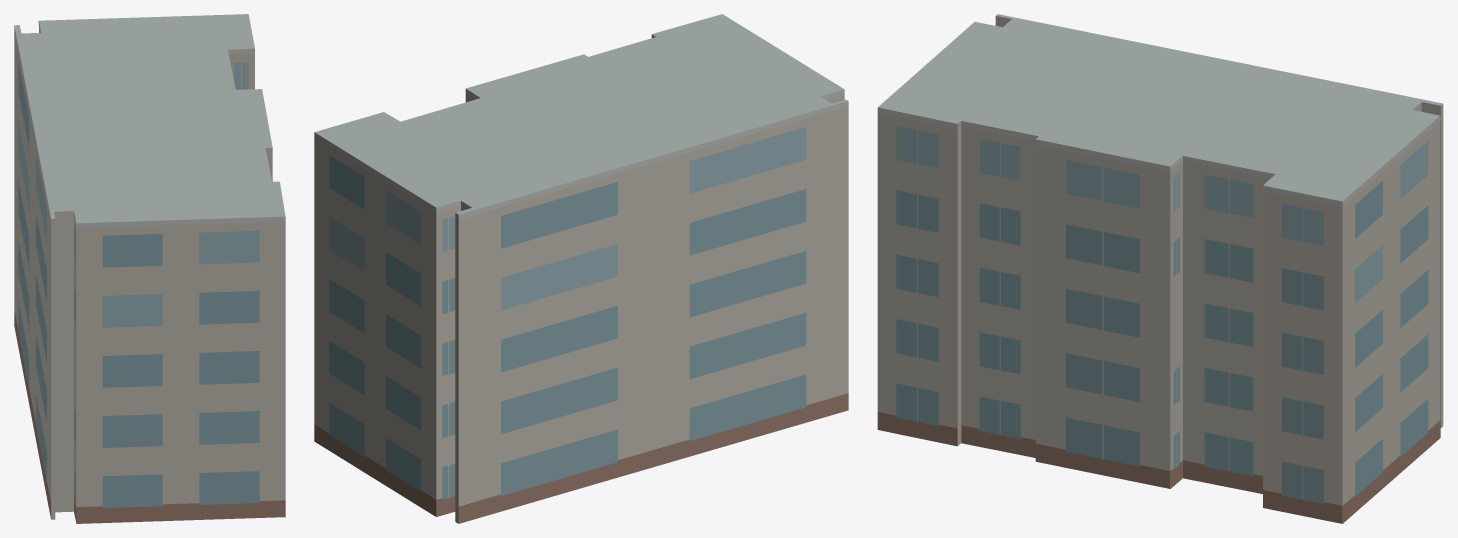
Rendered from survey-upis-33014915.glb.
3 renders of one model, left to right at view 1: azimuth 30°, elevation 25°; view 2: azimuth 150°, elevation 25°; view 3: azimuth 270°, elevation 25°, orthographic. The views are drawn at different scales.
Parts seen in each view (by area): view 1: survey-upis-33014915.tmp; view 2: survey-upis-33014915.tmp; view 3: survey-upis-33014915.tmp.
Part boxes in pixels (<box>): survey-upis-33014915.tmp: <box>14,14,285,523</box>; survey-upis-33014915.tmp: <box>314,14,848,523</box>; survey-upis-33014915.tmp: <box>877,14,1443,523</box>.
Bounding box in the file's own units: 18.78 × 15.05 × 23.95.
